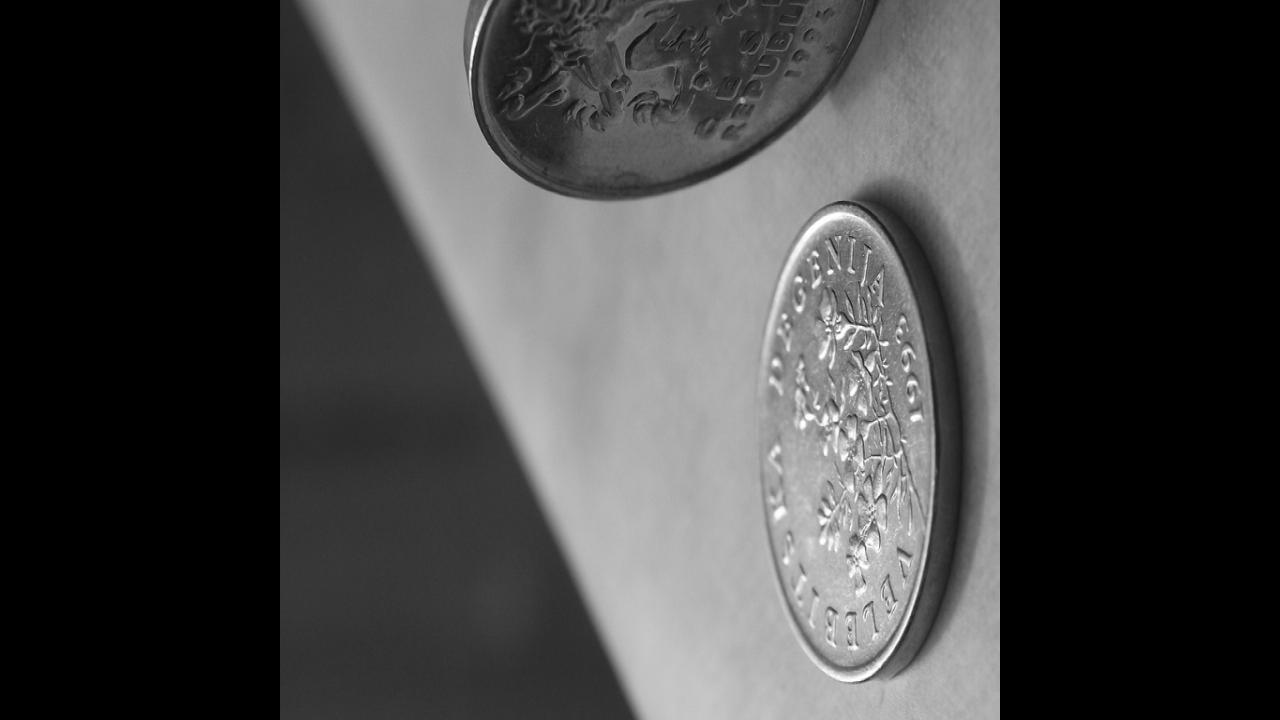coin: (751, 195, 966, 690), (461, 0, 884, 202)
